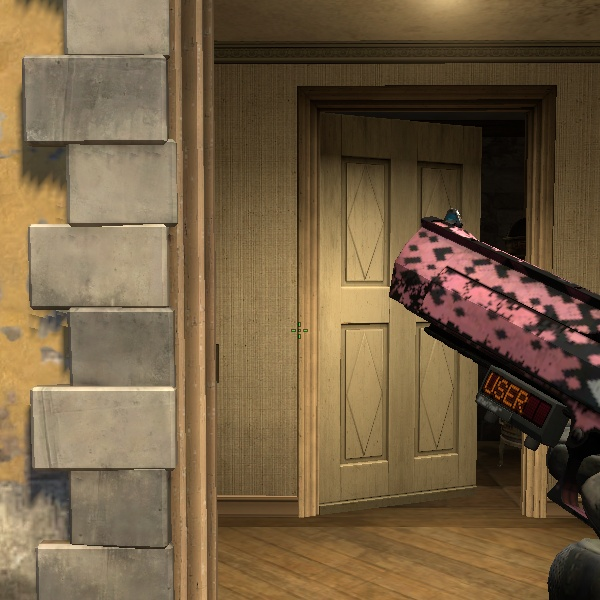t_body: (405, 187, 590, 593)
